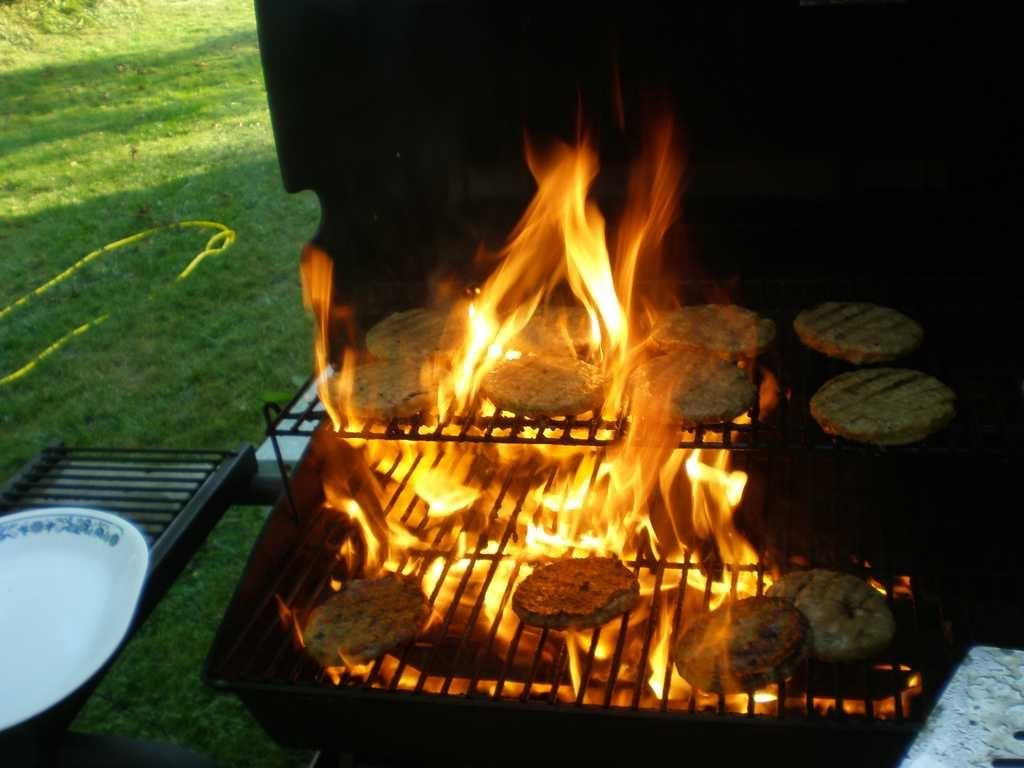fire: (410, 450, 644, 548), (544, 180, 594, 286), (470, 300, 504, 356)
